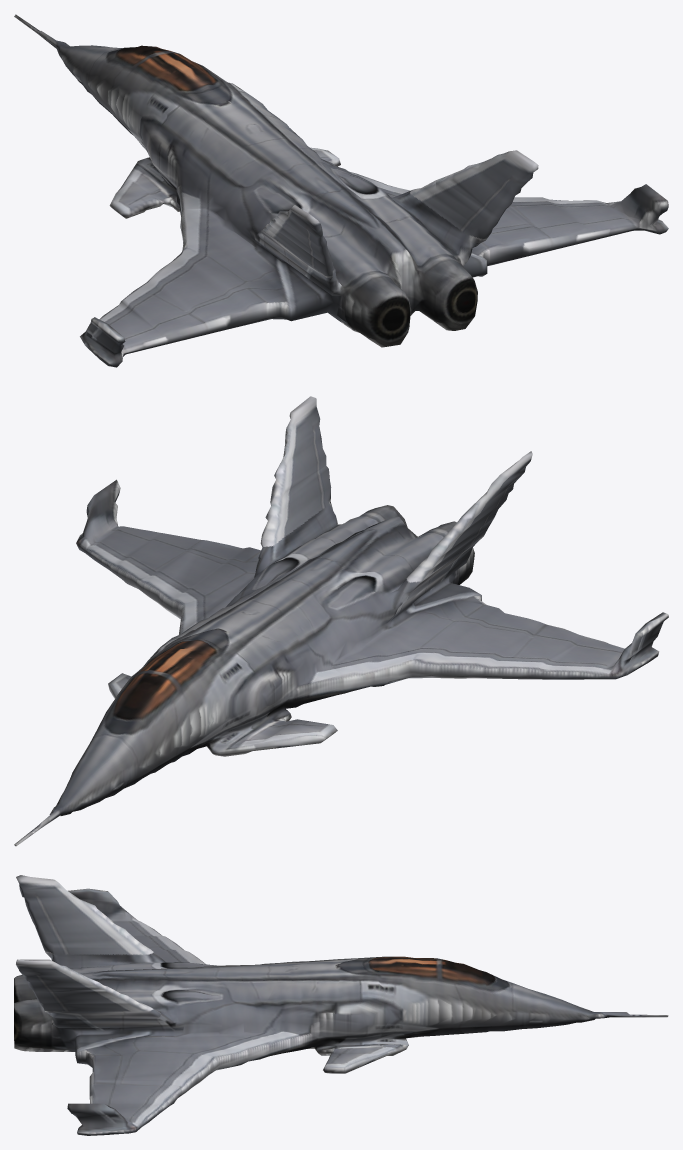
File: guide-on.glb
3 views of the same model, one above another, from view 1: azimuth 30°, elevation 25°; view 2: azimuth 150°, elevation 25°; view 3: azimuth 270°, elevation 25° (orthographic). The views are drawn at different scales.
Visible parts, largest first — view 1: guide-on; view 2: guide-on; view 3: guide-on.
Boxes of the visible parts, x1=… form: guide-on: x1=14, y1=14, x2=668, y2=367; guide-on: x1=14, y1=396, x2=668, y2=846; guide-on: x1=14, y1=875, x2=668, y2=1135.
Size of the model in its own units: 4.7 by 1.29 by 5.97.
1 material, 1 textured.
